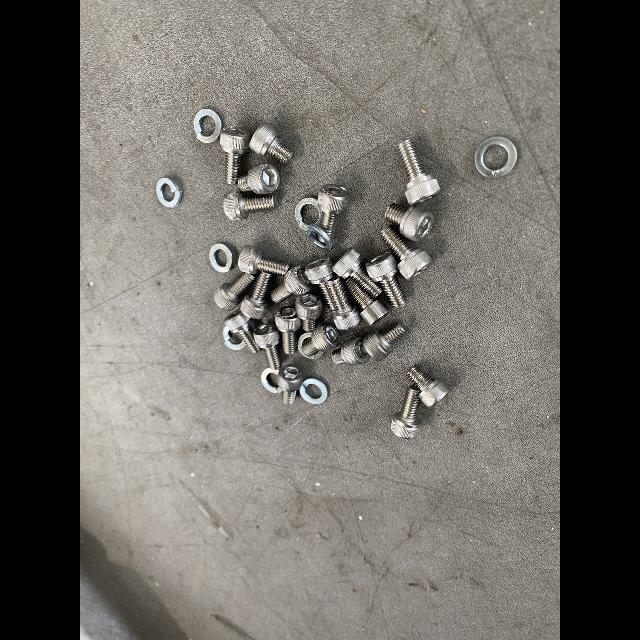Stainless Steel: (398, 140, 440, 205), (381, 228, 432, 280), (333, 249, 382, 297), (344, 279, 390, 326), (366, 252, 405, 307), (327, 275, 362, 330), (385, 203, 434, 241), (318, 183, 350, 241), (474, 136, 518, 178), (304, 256, 337, 310), (220, 126, 250, 185), (249, 123, 293, 163), (407, 368, 450, 407), (225, 309, 261, 355), (223, 190, 278, 220), (362, 323, 406, 360), (390, 385, 420, 439), (240, 272, 273, 319), (238, 246, 291, 275), (214, 273, 254, 310), (271, 267, 312, 303), (253, 322, 282, 370), (238, 163, 280, 195), (302, 323, 341, 356), (275, 307, 301, 354), (295, 293, 323, 331), (332, 337, 370, 364), (193, 108, 222, 143), (277, 365, 302, 404), (156, 177, 181, 208), (295, 197, 322, 224), (482, 144, 509, 171), (300, 378, 328, 404), (209, 243, 233, 273), (298, 332, 324, 359), (306, 225, 333, 250), (261, 367, 282, 394), (223, 326, 245, 351), (214, 249, 228, 266), (298, 221, 308, 230)
